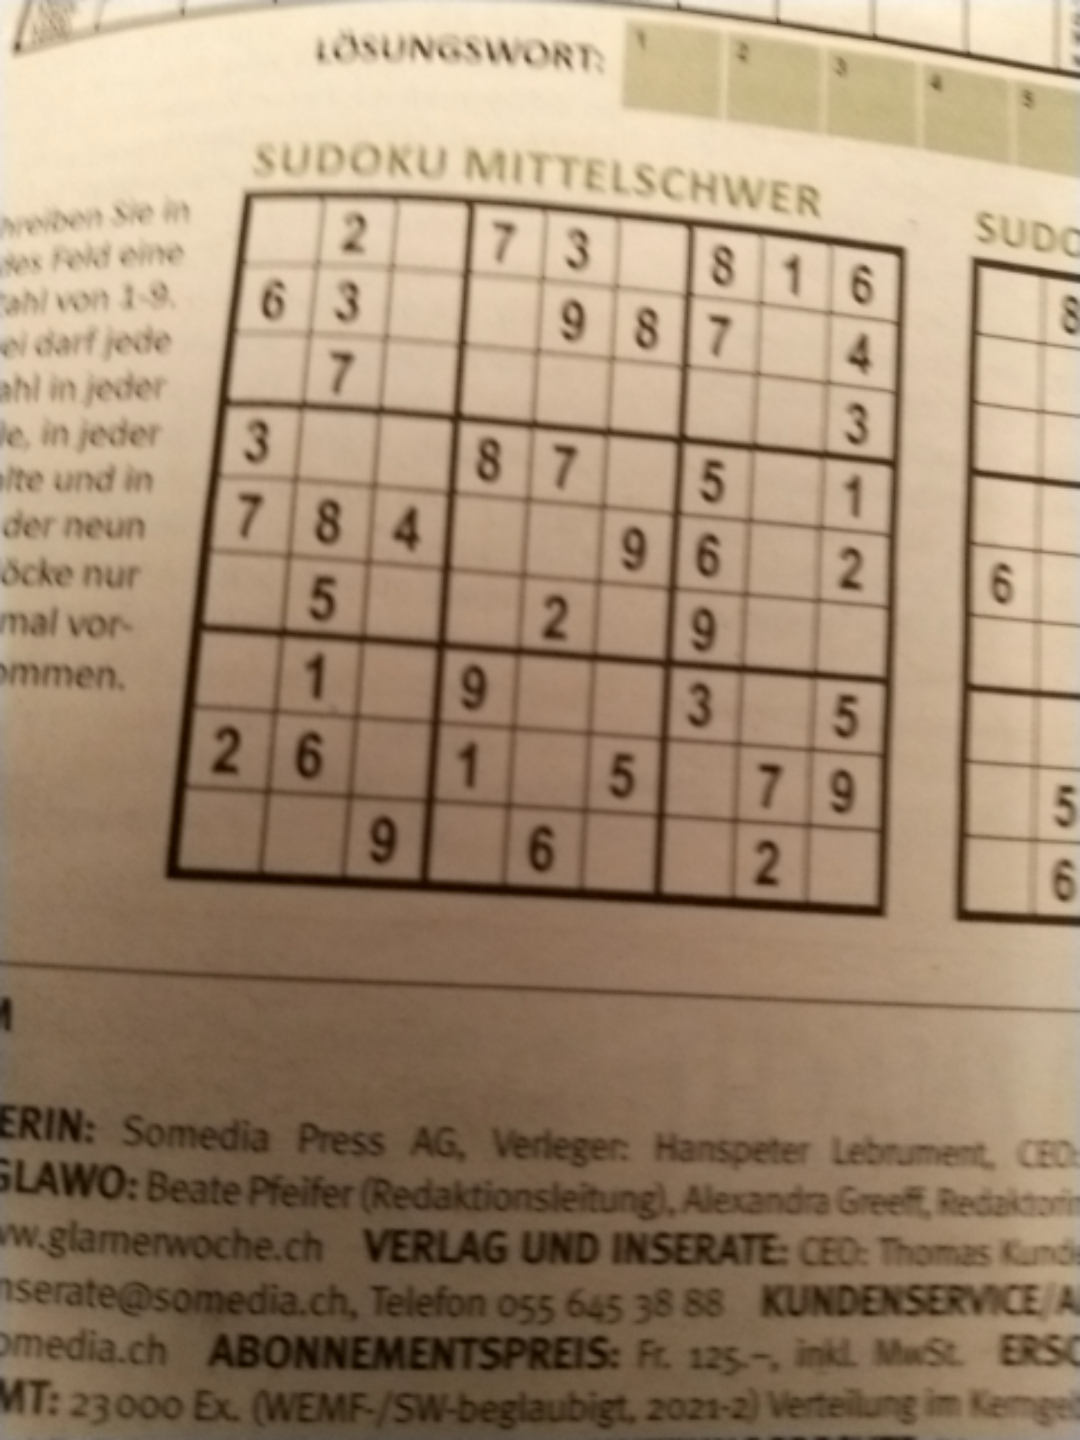sudoku: (168, 188, 908, 921)
